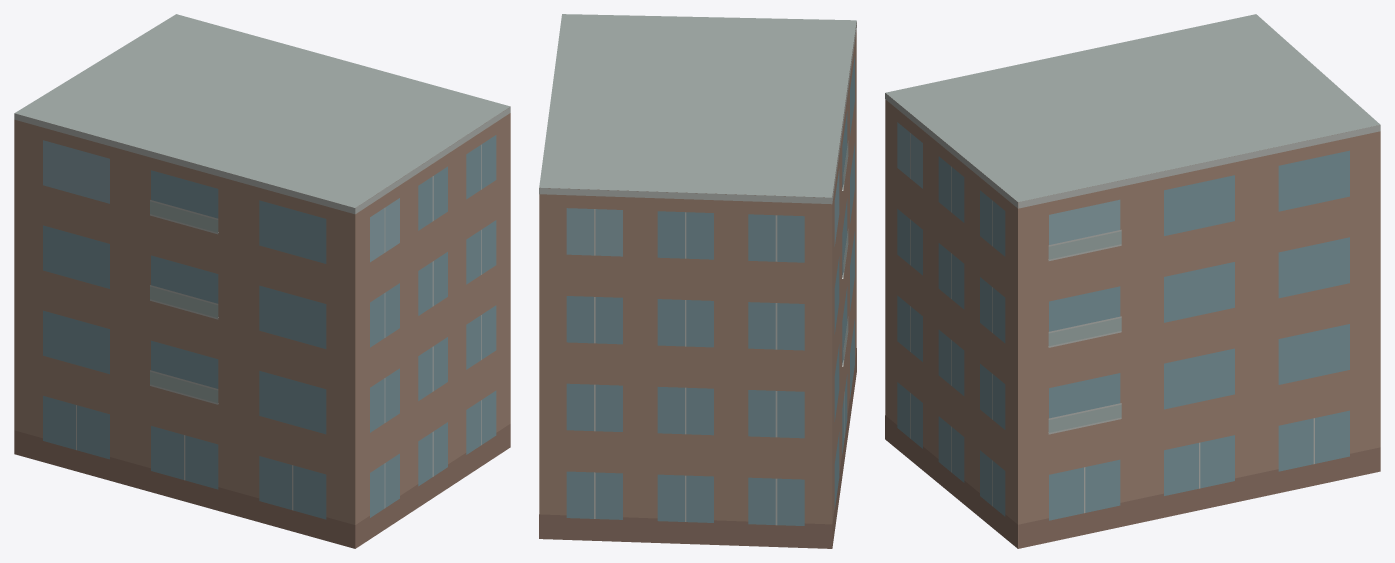
File: survey-upis-32803948.glb
The picture shows the model from 3 angles, left to right: view 1: azimuth 30°, elevation 25°; view 2: azimuth 150°, elevation 25°; view 3: azimuth 270°, elevation 25°; orthographic projection. The views are drawn at different scales.
Visible parts, largest first — view 1: survey-upis-32803948.tmp; view 2: survey-upis-32803948.tmp; view 3: survey-upis-32803948.tmp.
Part boxes in pixels (x1,y1,x2,y2): survey-upis-32803948.tmp: [14, 14, 510, 548]; survey-upis-32803948.tmp: [539, 14, 856, 548]; survey-upis-32803948.tmp: [885, 14, 1380, 548].
Size of the model in its own units: 15.38 by 13.2 by 17.11.
